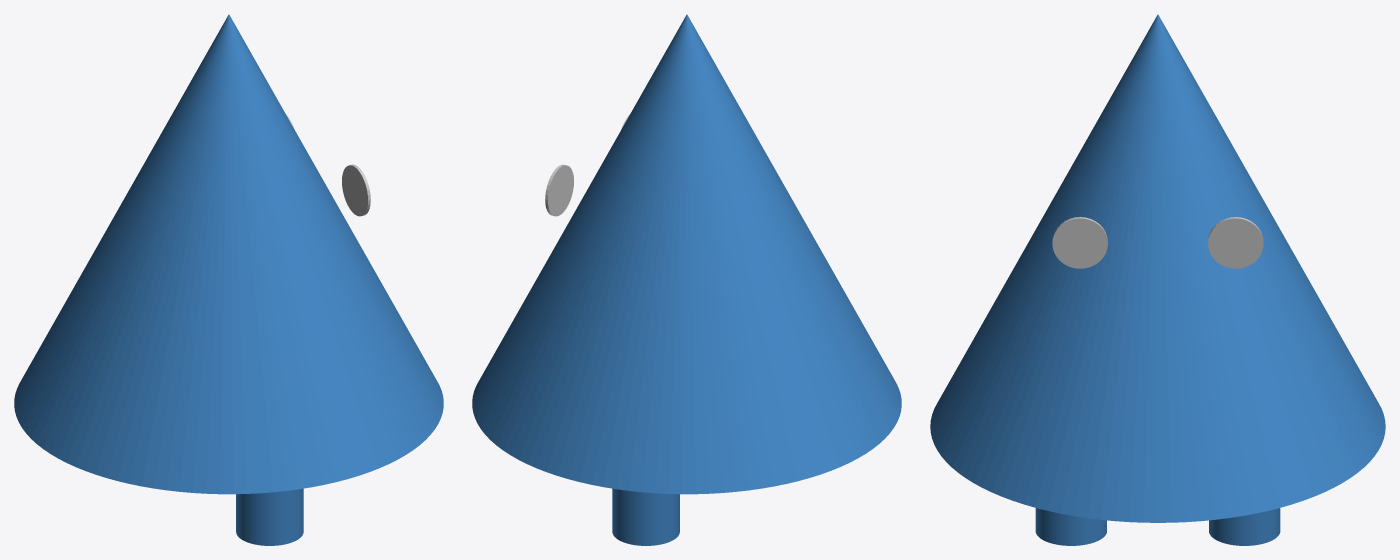
The model's file is LilDude.obj.
3 renders of one model, left to right at view 1: azimuth 30°, elevation 25°; view 2: azimuth 150°, elevation 25°; view 3: azimuth 270°, elevation 25°, orthographic. The views are drawn at different scales.
Parts seen in each view (by area): view 1: Cone.001, Cylinder, Cylinder.002; view 2: Cone.001, Cylinder, Cylinder.002; view 3: Cone.001, Cylinder.002, Cylinder.
Boxes of the visible parts, x1=… form: Cone.001: x1=14, y1=14, x2=443, y2=494; Cylinder: x1=236, y1=488, x2=303, y2=545; Cylinder.002: x1=286, y1=114, x2=370, y2=216; Cone.001: x1=472, y1=14, x2=901, y2=494; Cylinder: x1=612, y1=488, x2=679, y2=545; Cylinder.002: x1=545, y1=114, x2=629, y2=216; Cone.001: x1=930, y1=14, x2=1385, y2=522; Cylinder.002: x1=1052, y1=217, x2=1263, y2=268; Cylinder: x1=1035, y1=508, x2=1280, y2=545.
Bounding box in the file's own units: 2.1 × 2.63 × 2.1.
